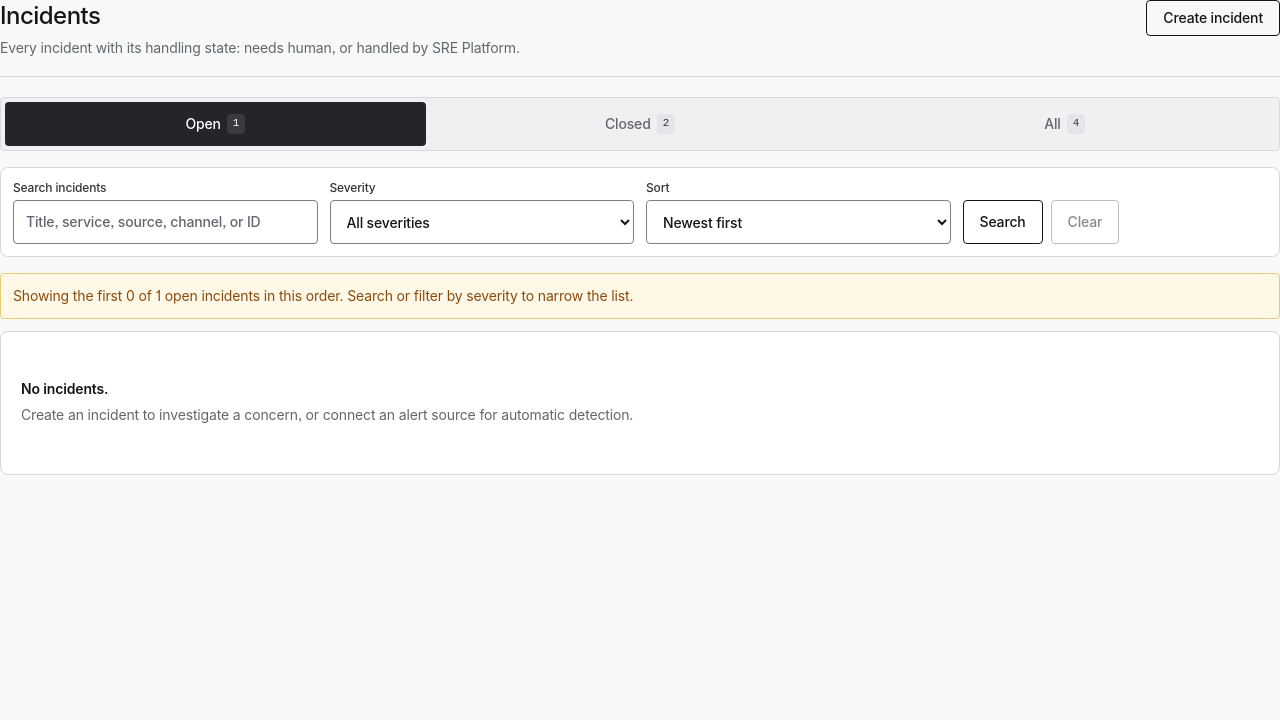
Test: IncidentsPanel closed archive Load more › isolates cursors, rows, and announcements when switching between Closed and All
This screenshot has width=1280, height=720.
Click the tab "Closed 2" at (640, 124), box [430,102,850,146]
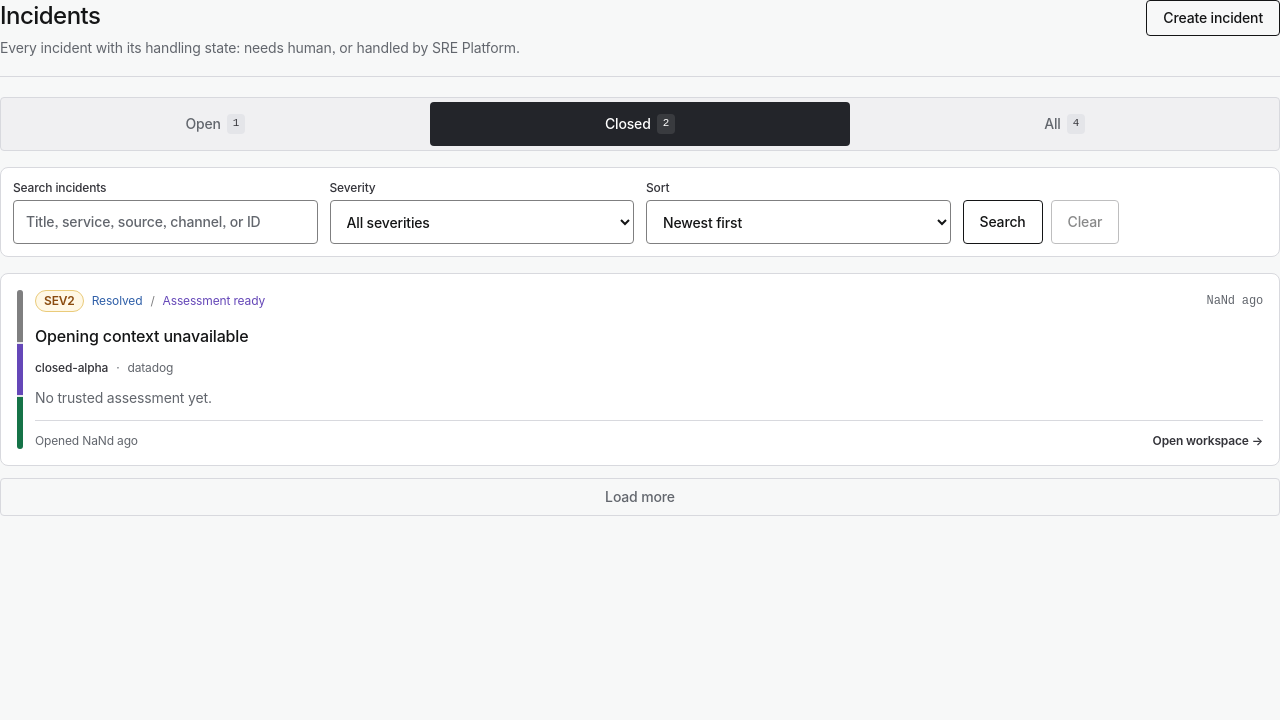
Click the button "Load more" at (640, 497), box [0,478,1279,516]
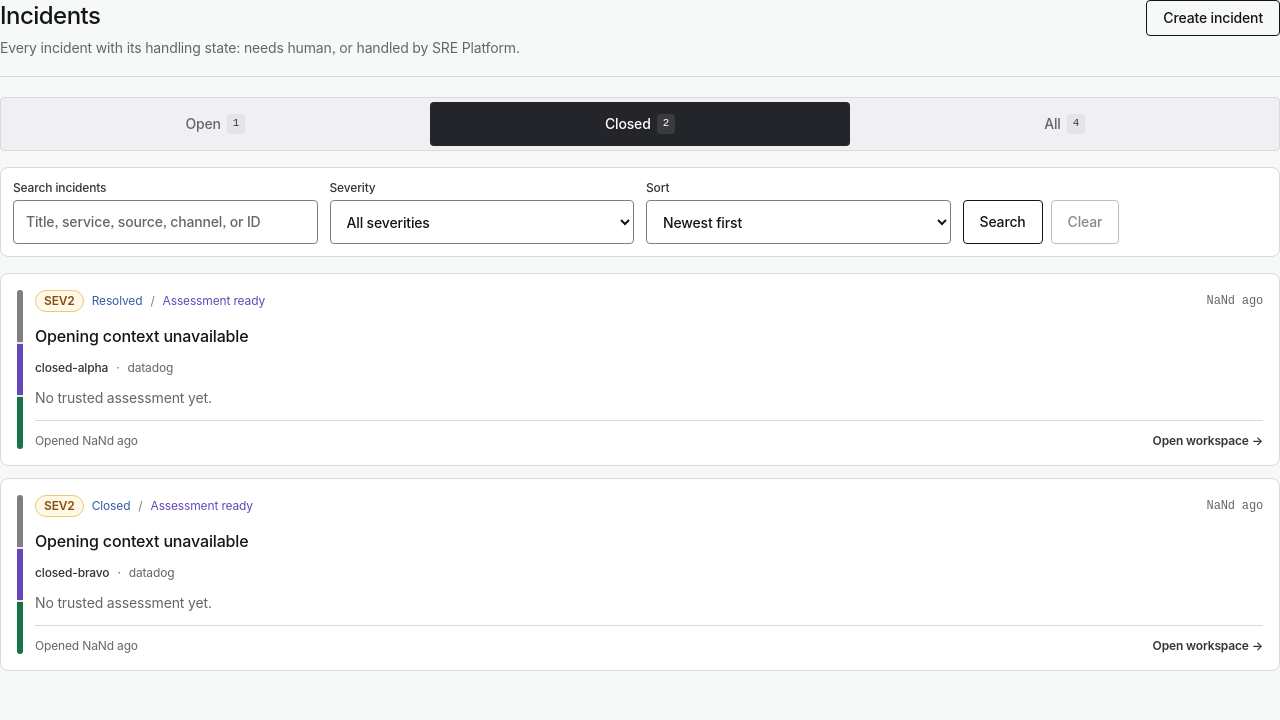
Expected: the text "closed-alpha" is shown, [35,360,108,376]
Expected: the text "closed-bravo" is shown, [35,565,109,581]
Click the tab "All 4" at (1065, 124), box [854,102,1275,146]
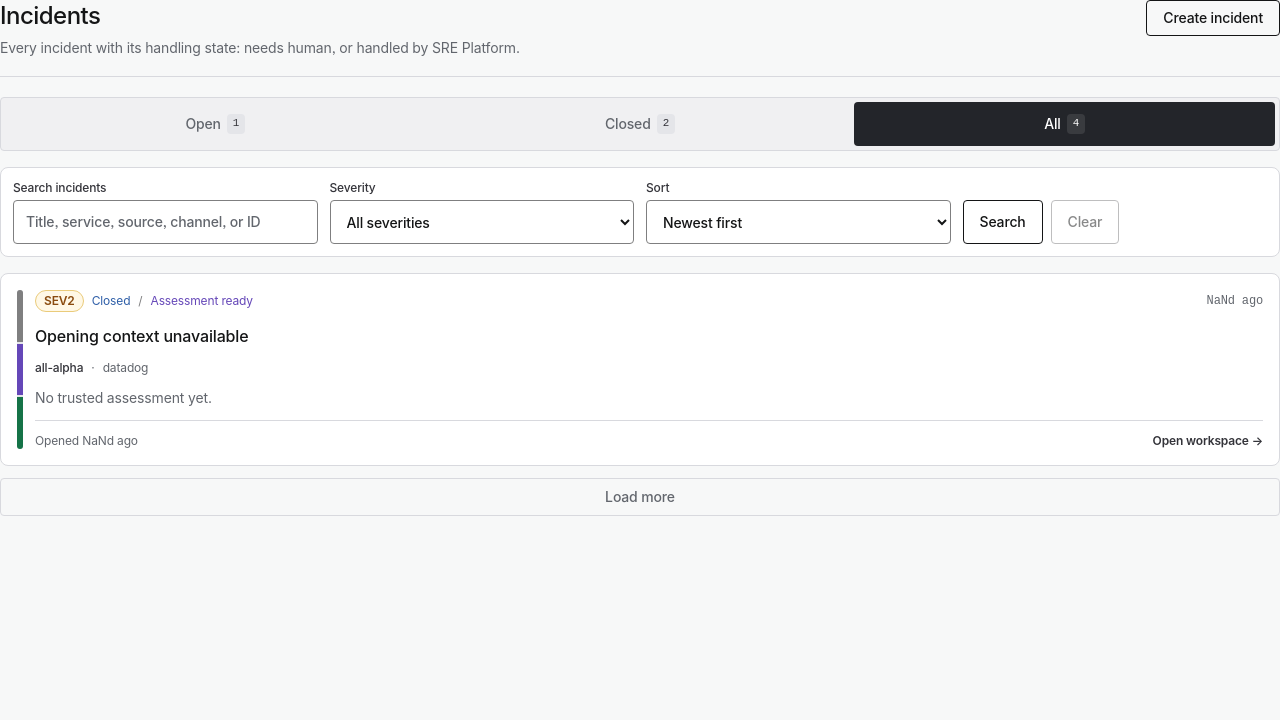
Expected: the link "closed-alpha" is gone
Expected: the link "closed-bravo" is gone
Expected: the text "all-alpha" is shown, [35,360,83,376]
Click the button "Load more" at (640, 497), box [0,478,1279,516]
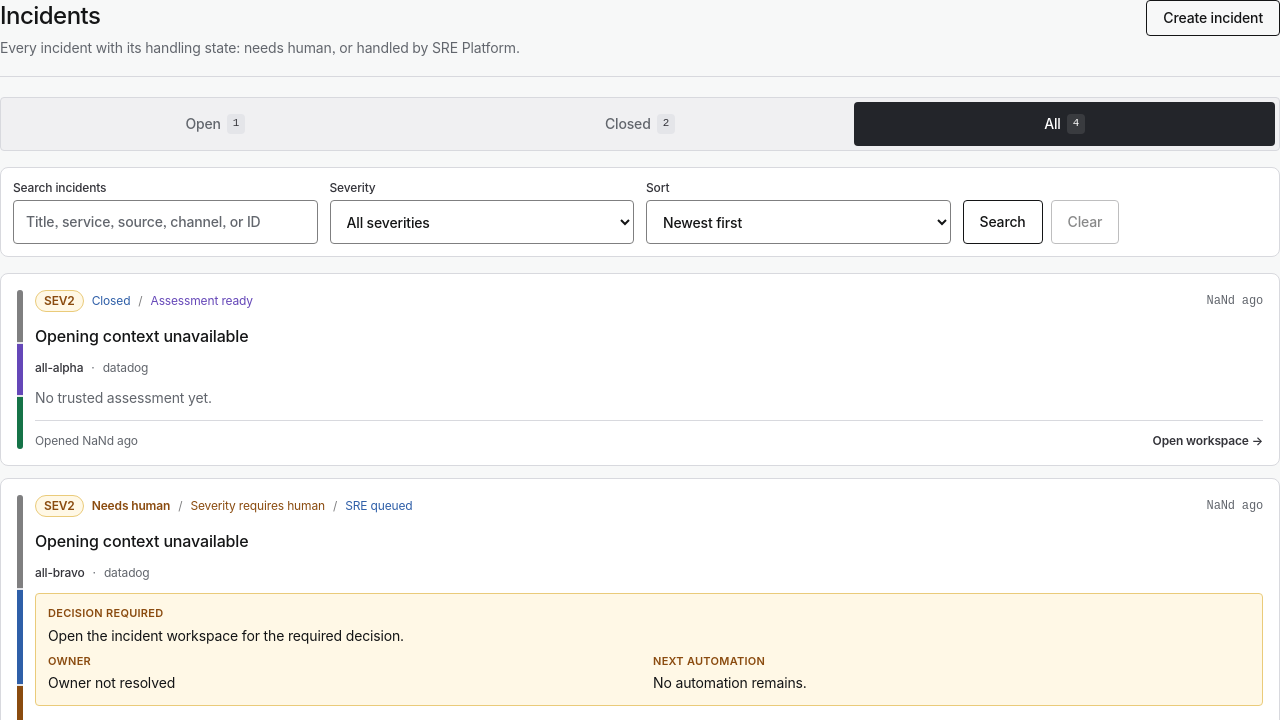
Expected: the text "all-alpha" is shown, [35,360,83,376]
Expected: the text "all-bravo" is shown, [35,565,85,581]
Click the tab "Closed 2" at (640, 124), box [430,102,850,146]
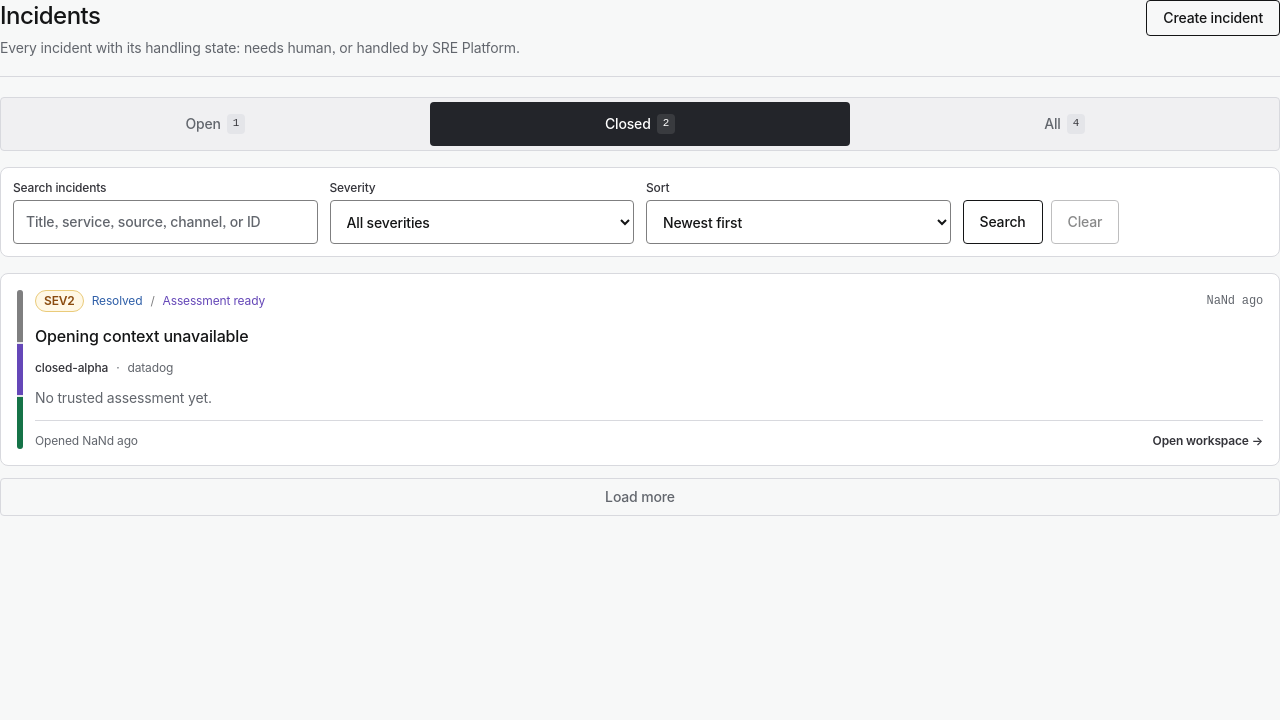
Expected: the link "all-alpha" is gone
Expected: the link "all-bravo" is gone
Expected: the text "closed-alpha" is shown, [35,360,108,376]
